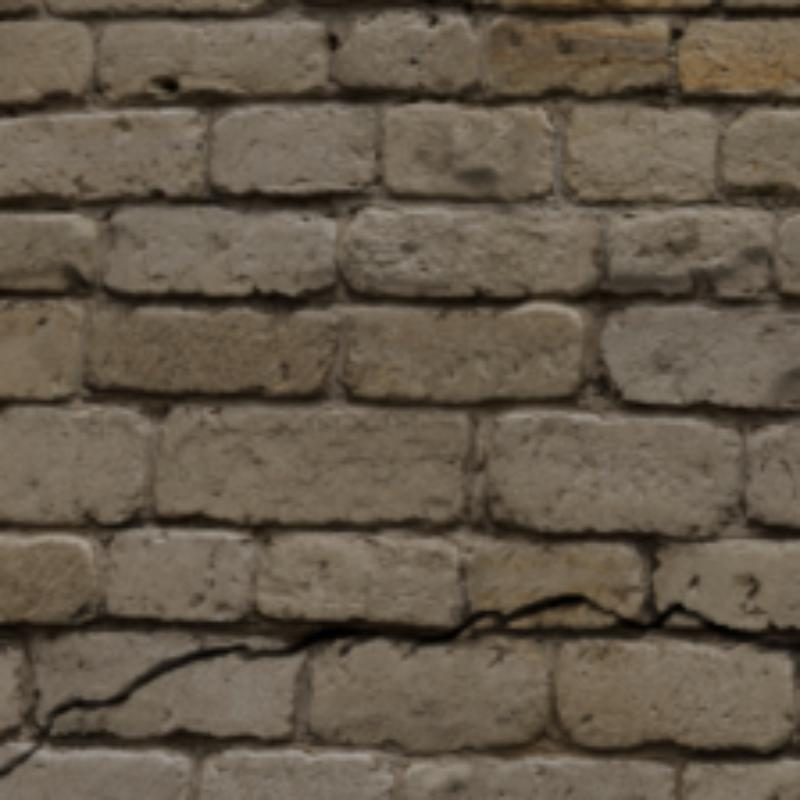crack: (0, 593, 796, 775)
